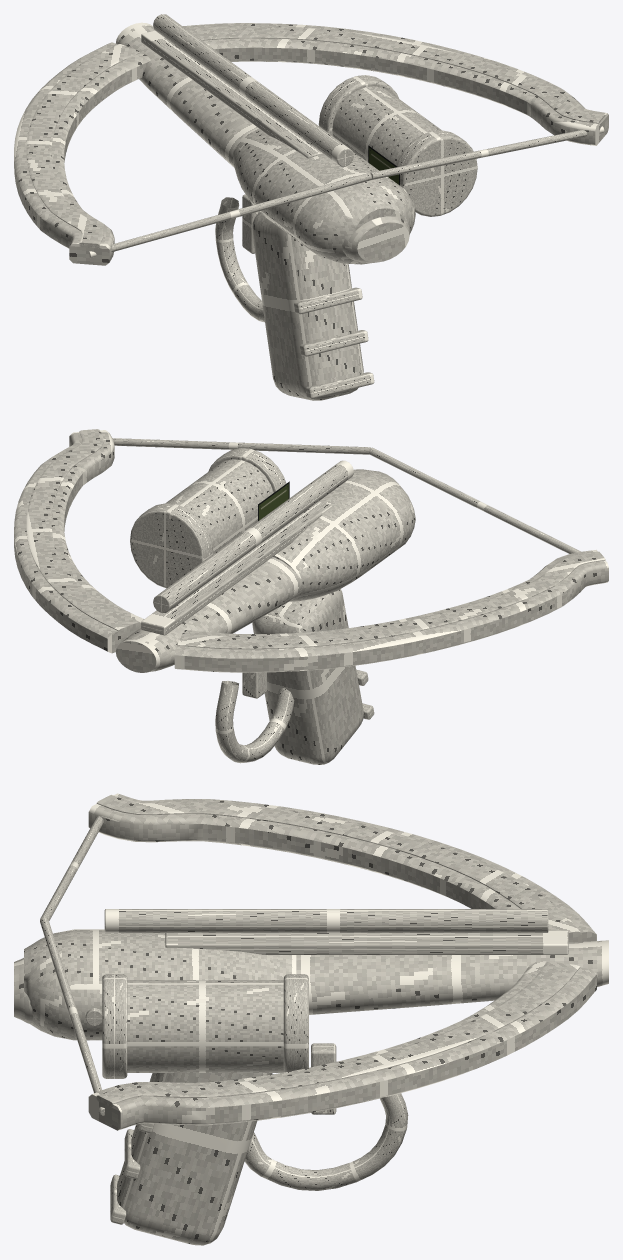
File: poison.glb
3 views of the same model, one above another, from view 1: azimuth 30°, elevation 25°; view 2: azimuth 150°, elevation 25°; view 3: azimuth 270°, elevation 25° (orthographic). The views are drawn at different scales.
Visible parts, largest first — view 1: Angled grip, Receiver, Swept recurve limb.001, Swept recurve limb, Tapered rail, Limb spring inset.001, Limb spring inset, Poison cartridge, Loaded poison bolt, Cartridge collar, Rail groove, Draw cable (+7 smaller); view 2: Swept recurve limb, Receiver, Angled grip, Swept recurve limb.001, Tapered rail, Limb spring inset, Limb spring inset.001, Poison cartridge, Cartridge collar.001, Loaded poison bolt, Rail groove, Curved trigger guard (+5 smaller); view 3: Swept recurve limb.001, Poison cartridge, Swept recurve limb, Tapered rail, Angled grip, Receiver, Loaded poison bolt, Limb spring inset.001, Rail groove, Limb spring inset, Curved trigger guard, Cartridge collar (+4 smaller).
Part boxes in pixels (bbox=[...]): Angled grip: bbox=[252, 212, 363, 400]; Receiver: bbox=[232, 127, 415, 264]; Swept recurve limb.001: bbox=[182, 23, 608, 145]; Swept recurve limb: bbox=[14, 42, 150, 265]; Tapered rail: bbox=[116, 22, 410, 262]; Limb spring inset.001: bbox=[186, 26, 605, 123]; Limb spring inset: bbox=[26, 44, 140, 248]; Poison cartridge: bbox=[332, 86, 441, 165]; Loaded poison bolt: bbox=[153, 14, 353, 166]; Cartridge collar: bbox=[396, 130, 477, 216]; Rail groove: bbox=[141, 30, 323, 158]; Draw cable: bbox=[89, 173, 371, 257]; Swept recurve limb: bbox=[174, 549, 608, 672]; Receiver: bbox=[273, 469, 415, 601]; Angled grip: bbox=[252, 589, 363, 764]; Swept recurve limb.001: bbox=[14, 430, 143, 653]; Tapered rail: bbox=[116, 557, 303, 672]; Limb spring inset: bbox=[177, 551, 605, 649]; Limb spring inset.001: bbox=[26, 429, 140, 633]; Poison cartridge: bbox=[166, 459, 273, 553]; Cartridge collar.001: bbox=[130, 503, 213, 588]; Loaded poison bolt: bbox=[153, 460, 353, 613]; Rail groove: bbox=[141, 501, 332, 635]; Curved trigger guard: bbox=[215, 680, 294, 763]; Swept recurve limb.001: bbox=[88, 961, 596, 1130]; Poison cartridge: bbox=[127, 980, 283, 1072]; Swept recurve limb: bbox=[88, 793, 596, 942]; Tapered rail: bbox=[14, 940, 608, 1023]; Angled grip: bbox=[117, 1073, 272, 1245]; Receiver: bbox=[24, 929, 296, 1040]; Loaded poison bolt: bbox=[104, 909, 548, 932]; Limb spring inset.001: bbox=[96, 961, 580, 1107]; Rail groove: bbox=[165, 930, 568, 954]; Limb spring inset: bbox=[96, 794, 580, 937]; Curved trigger guard: bbox=[244, 1093, 408, 1190]; Cartridge collar: bbox=[102, 974, 127, 1078].
Bounding box in the file's own units: 0.7434 × 0.3566 × 0.59.
7 materials, 7 textured.
